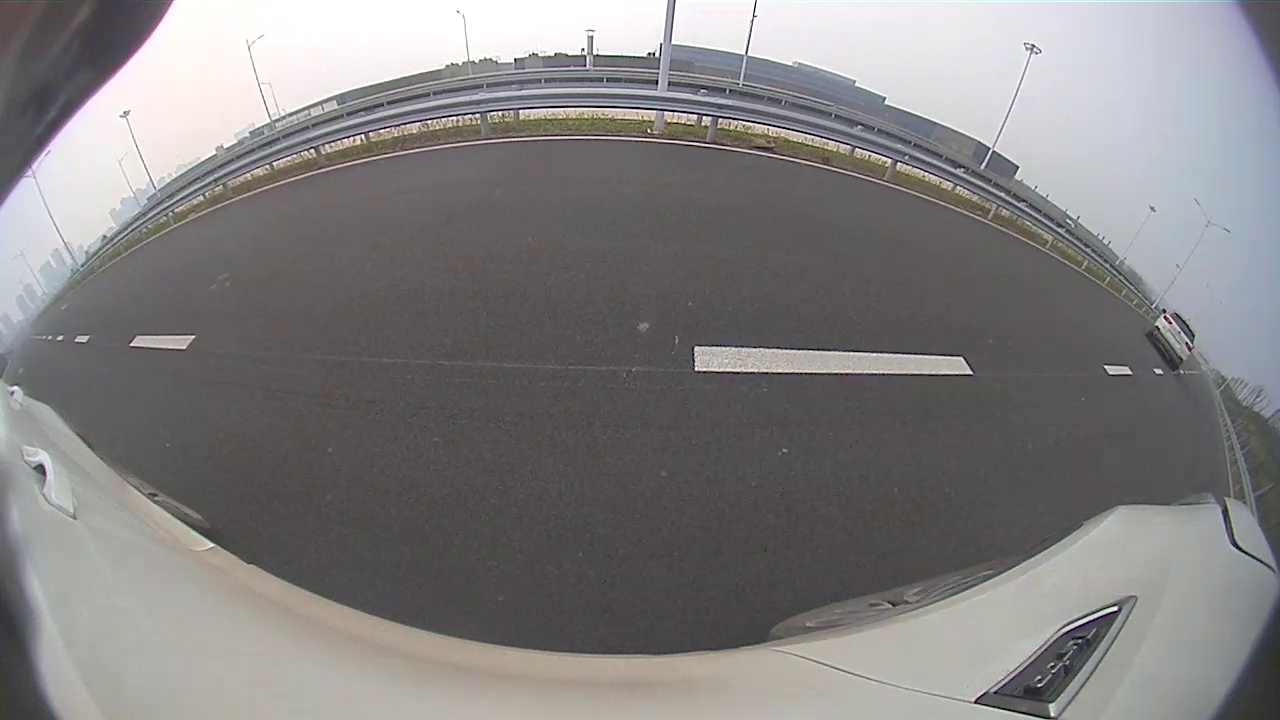car: (641, 153, 682, 186)
